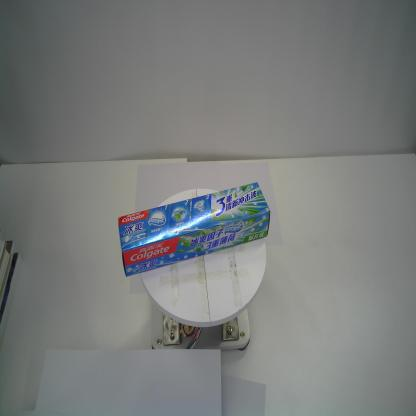Personal Hygiene: (118, 182, 272, 278)
